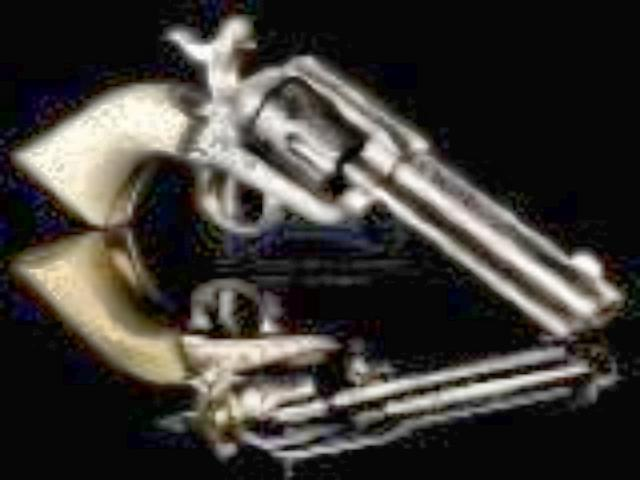pistol: (4, 8, 616, 348)
